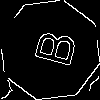B: (25, 25, 78, 69)
